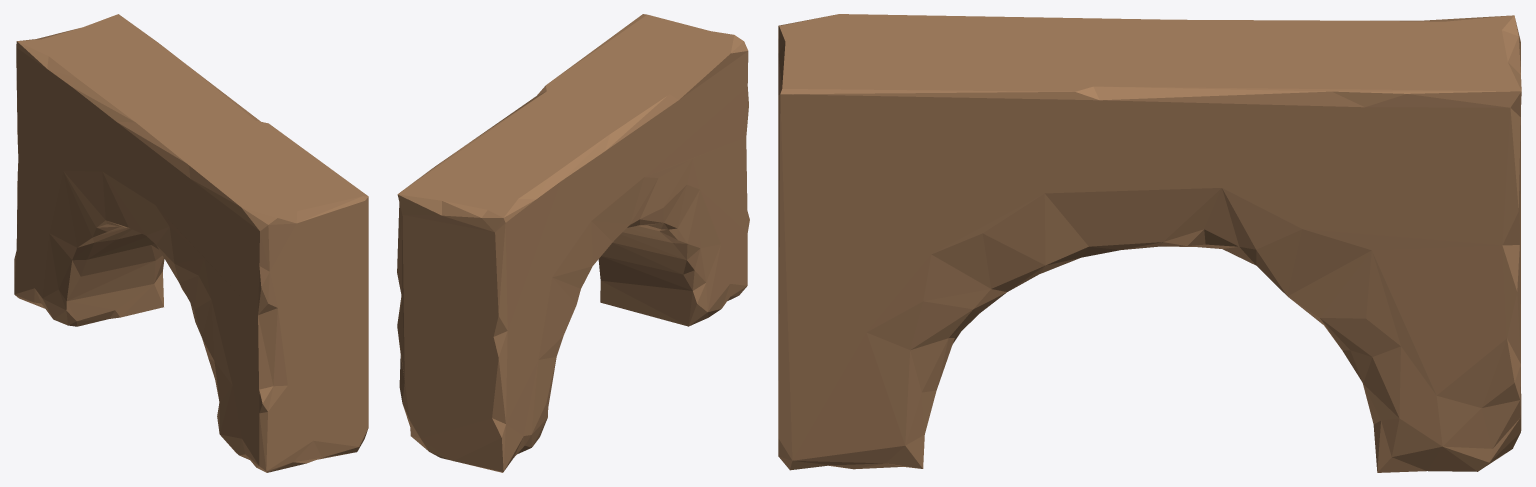
File: SM_clay_arch_02.fbx
The picture shows the model from 3 angles, left to right: view 1: azimuth 30°, elevation 25°; view 2: azimuth 150°, elevation 25°; view 3: azimuth 270°, elevation 25°; orthographic projection. The views are drawn at different scales.
Parts seen in each view (by area): view 1: clay_arch_02; view 2: clay_arch_02; view 3: clay_arch_02.
Part boxes in pixels (bbox=[...]): clay_arch_02: bbox=[14, 14, 368, 472]; clay_arch_02: bbox=[397, 14, 749, 472]; clay_arch_02: bbox=[778, 14, 1521, 472].
Bounding box in the file's own units: 186 × 422 × 741.
